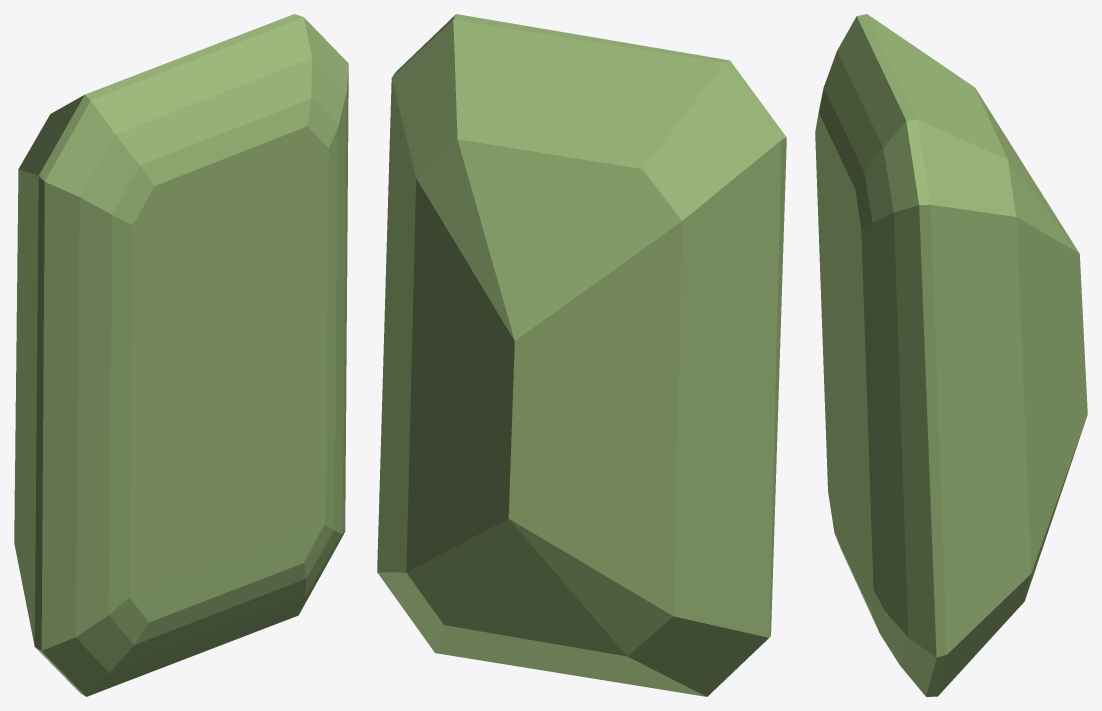
The model's file is TR1_8shapes_Emerald_Classic_Stone.001 2.glb.
The picture shows the model from 3 angles, left to right: view 1: azimuth 30°, elevation 25°; view 2: azimuth 150°, elevation 25°; view 3: azimuth 270°, elevation 25°; orthographic projection. The views are drawn at different scales.
Parts seen in each view (by area): view 1: TR1_8shapes_Emerald_Classic_Stone.001; view 2: TR1_8shapes_Emerald_Classic_Stone.001; view 3: TR1_8shapes_Emerald_Classic_Stone.001.
Boxes of the visible parts, left/top/right/bottom form: TR1_8shapes_Emerald_Classic_Stone.001: left=14, top=14, right=348, bottom=696; TR1_8shapes_Emerald_Classic_Stone.001: left=377, top=14, right=786, bottom=696; TR1_8shapes_Emerald_Classic_Stone.001: left=815, top=14, right=1087, bottom=696.
Bounding box in the file's own units: 0.4112 × 0.692 × 0.2956.
